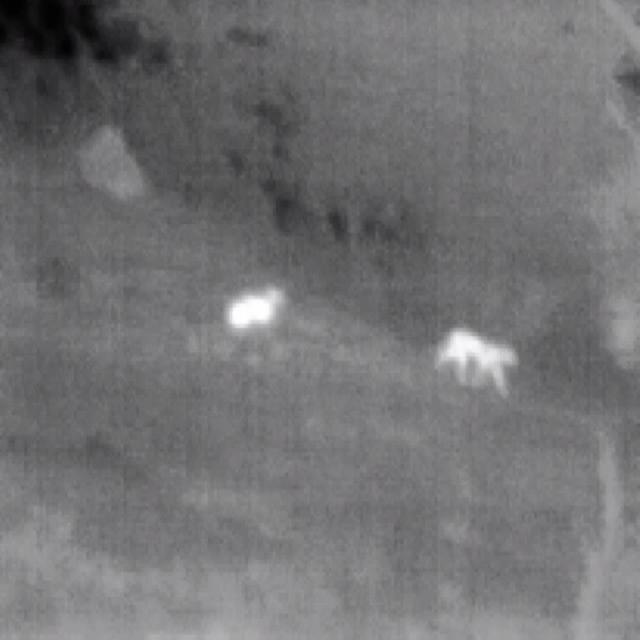cheetah: (434, 331, 517, 398), (226, 288, 283, 328)
